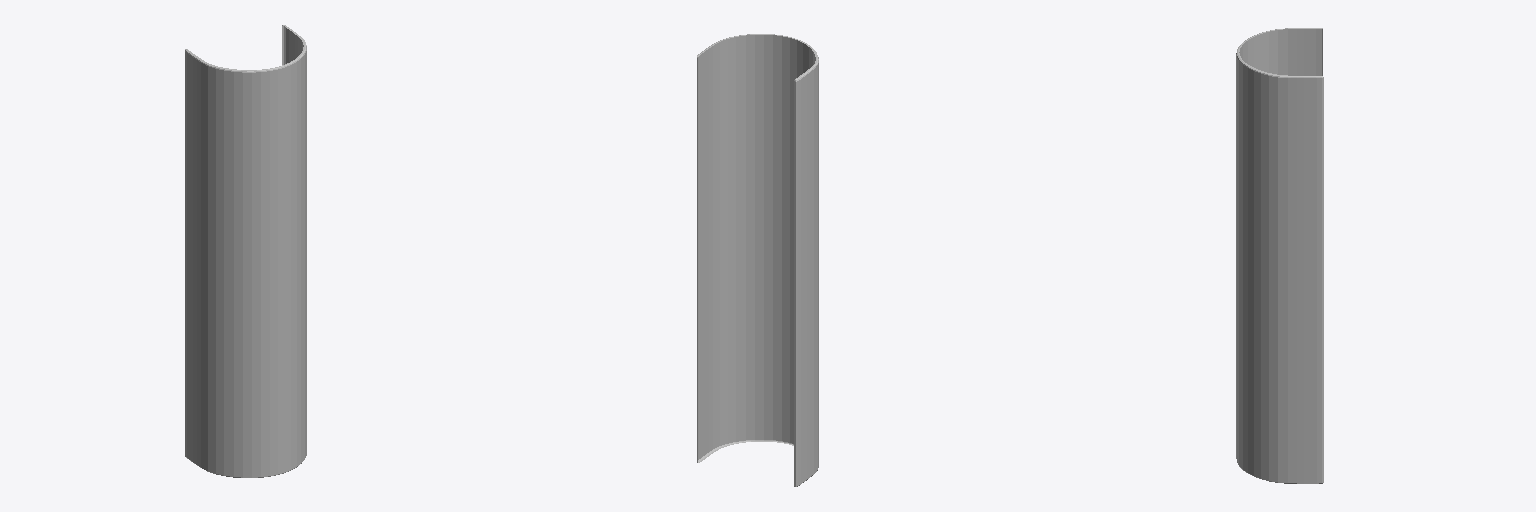
File: sink_stand.obj
3 renders of one model, left to right at view 1: azimuth 30°, elevation 25°; view 2: azimuth 150°, elevation 25°; view 3: azimuth 270°, elevation 25°, orthographic.
Visible parts, largest first — view 1: Stand; view 2: Stand; view 3: Stand.
Part boxes in pixels (bbox=[...]): Stand: bbox=[185, 25, 306, 477]; Stand: bbox=[697, 34, 818, 486]; Stand: bbox=[1236, 28, 1323, 483].
Size of the model in its own units: 39.46 by 151 by 29.27.